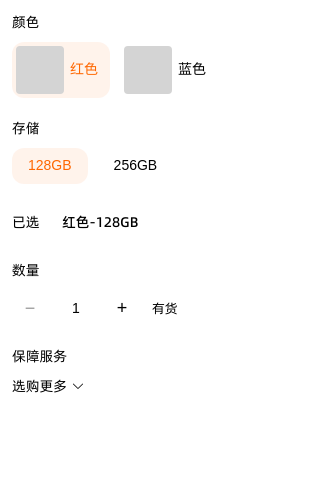
Test: SkuSpecSelector › service selection › 点击展开服务列表
Click the element with class "service-trigger": coordinates (49, 386) [12, 376, 85, 396]
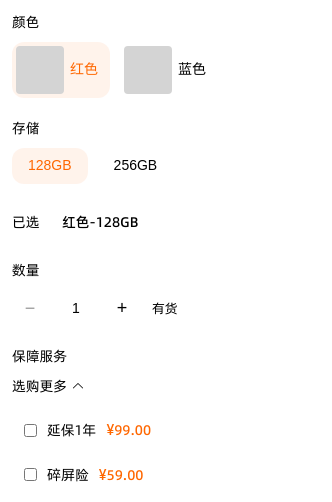
Check: the element with class "service-list" is shown, box [24, 420, 151, 485]
